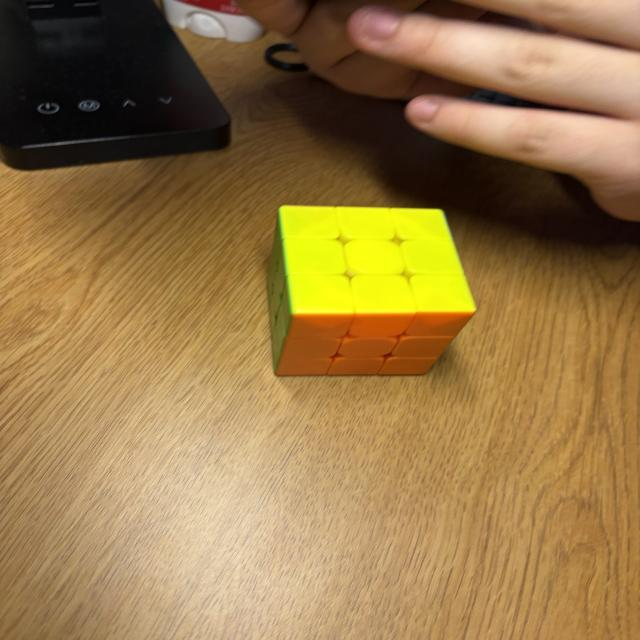Rubiks Cube: (266, 204, 478, 375)
